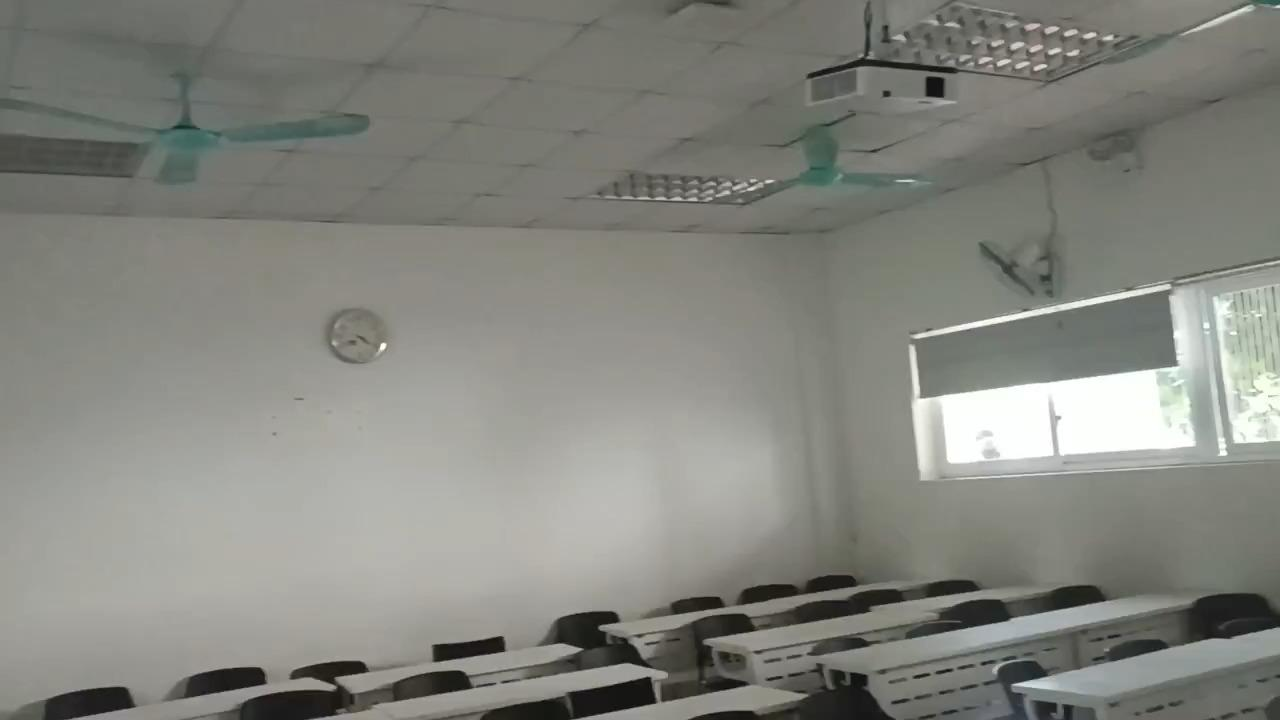chair: (572, 674, 658, 718), (988, 660, 1052, 716), (38, 687, 138, 719), (799, 687, 896, 719), (236, 690, 335, 719), (1203, 593, 1271, 631), (555, 609, 622, 647), (185, 666, 268, 696), (948, 600, 1014, 633), (431, 634, 504, 662), (1098, 639, 1168, 668), (394, 672, 471, 698), (574, 644, 653, 668), (694, 612, 757, 642), (481, 700, 573, 718), (1214, 617, 1277, 643), (793, 598, 866, 620), (283, 659, 368, 677), (1049, 583, 1106, 609), (849, 587, 905, 612), (812, 633, 865, 657), (744, 583, 801, 603), (901, 620, 961, 639), (669, 597, 726, 616), (805, 573, 854, 594), (925, 580, 980, 597), (681, 708, 765, 719)
clock: (318, 297, 390, 371)
fan: (0, 33, 393, 185), (727, 108, 935, 221), (975, 227, 1077, 308)
project: (787, 49, 972, 112)
table: (820, 622, 1093, 719), (1026, 637, 1279, 719), (375, 666, 670, 719), (327, 641, 585, 697), (706, 609, 943, 654), (1027, 590, 1201, 650), (78, 675, 310, 719), (581, 681, 805, 715), (596, 604, 789, 637), (893, 585, 1067, 619), (770, 575, 931, 609), (1225, 624, 1279, 653), (315, 713, 397, 719)
